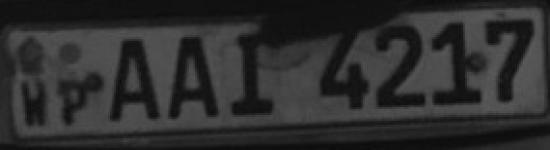1: (430, 18, 480, 109)
4: (371, 24, 428, 113), (318, 21, 369, 116)
7: (482, 14, 538, 108)
A: (105, 34, 166, 123), (168, 32, 222, 120)
I: (226, 30, 278, 119)
P: (58, 78, 91, 126)
W: (15, 74, 54, 130)
